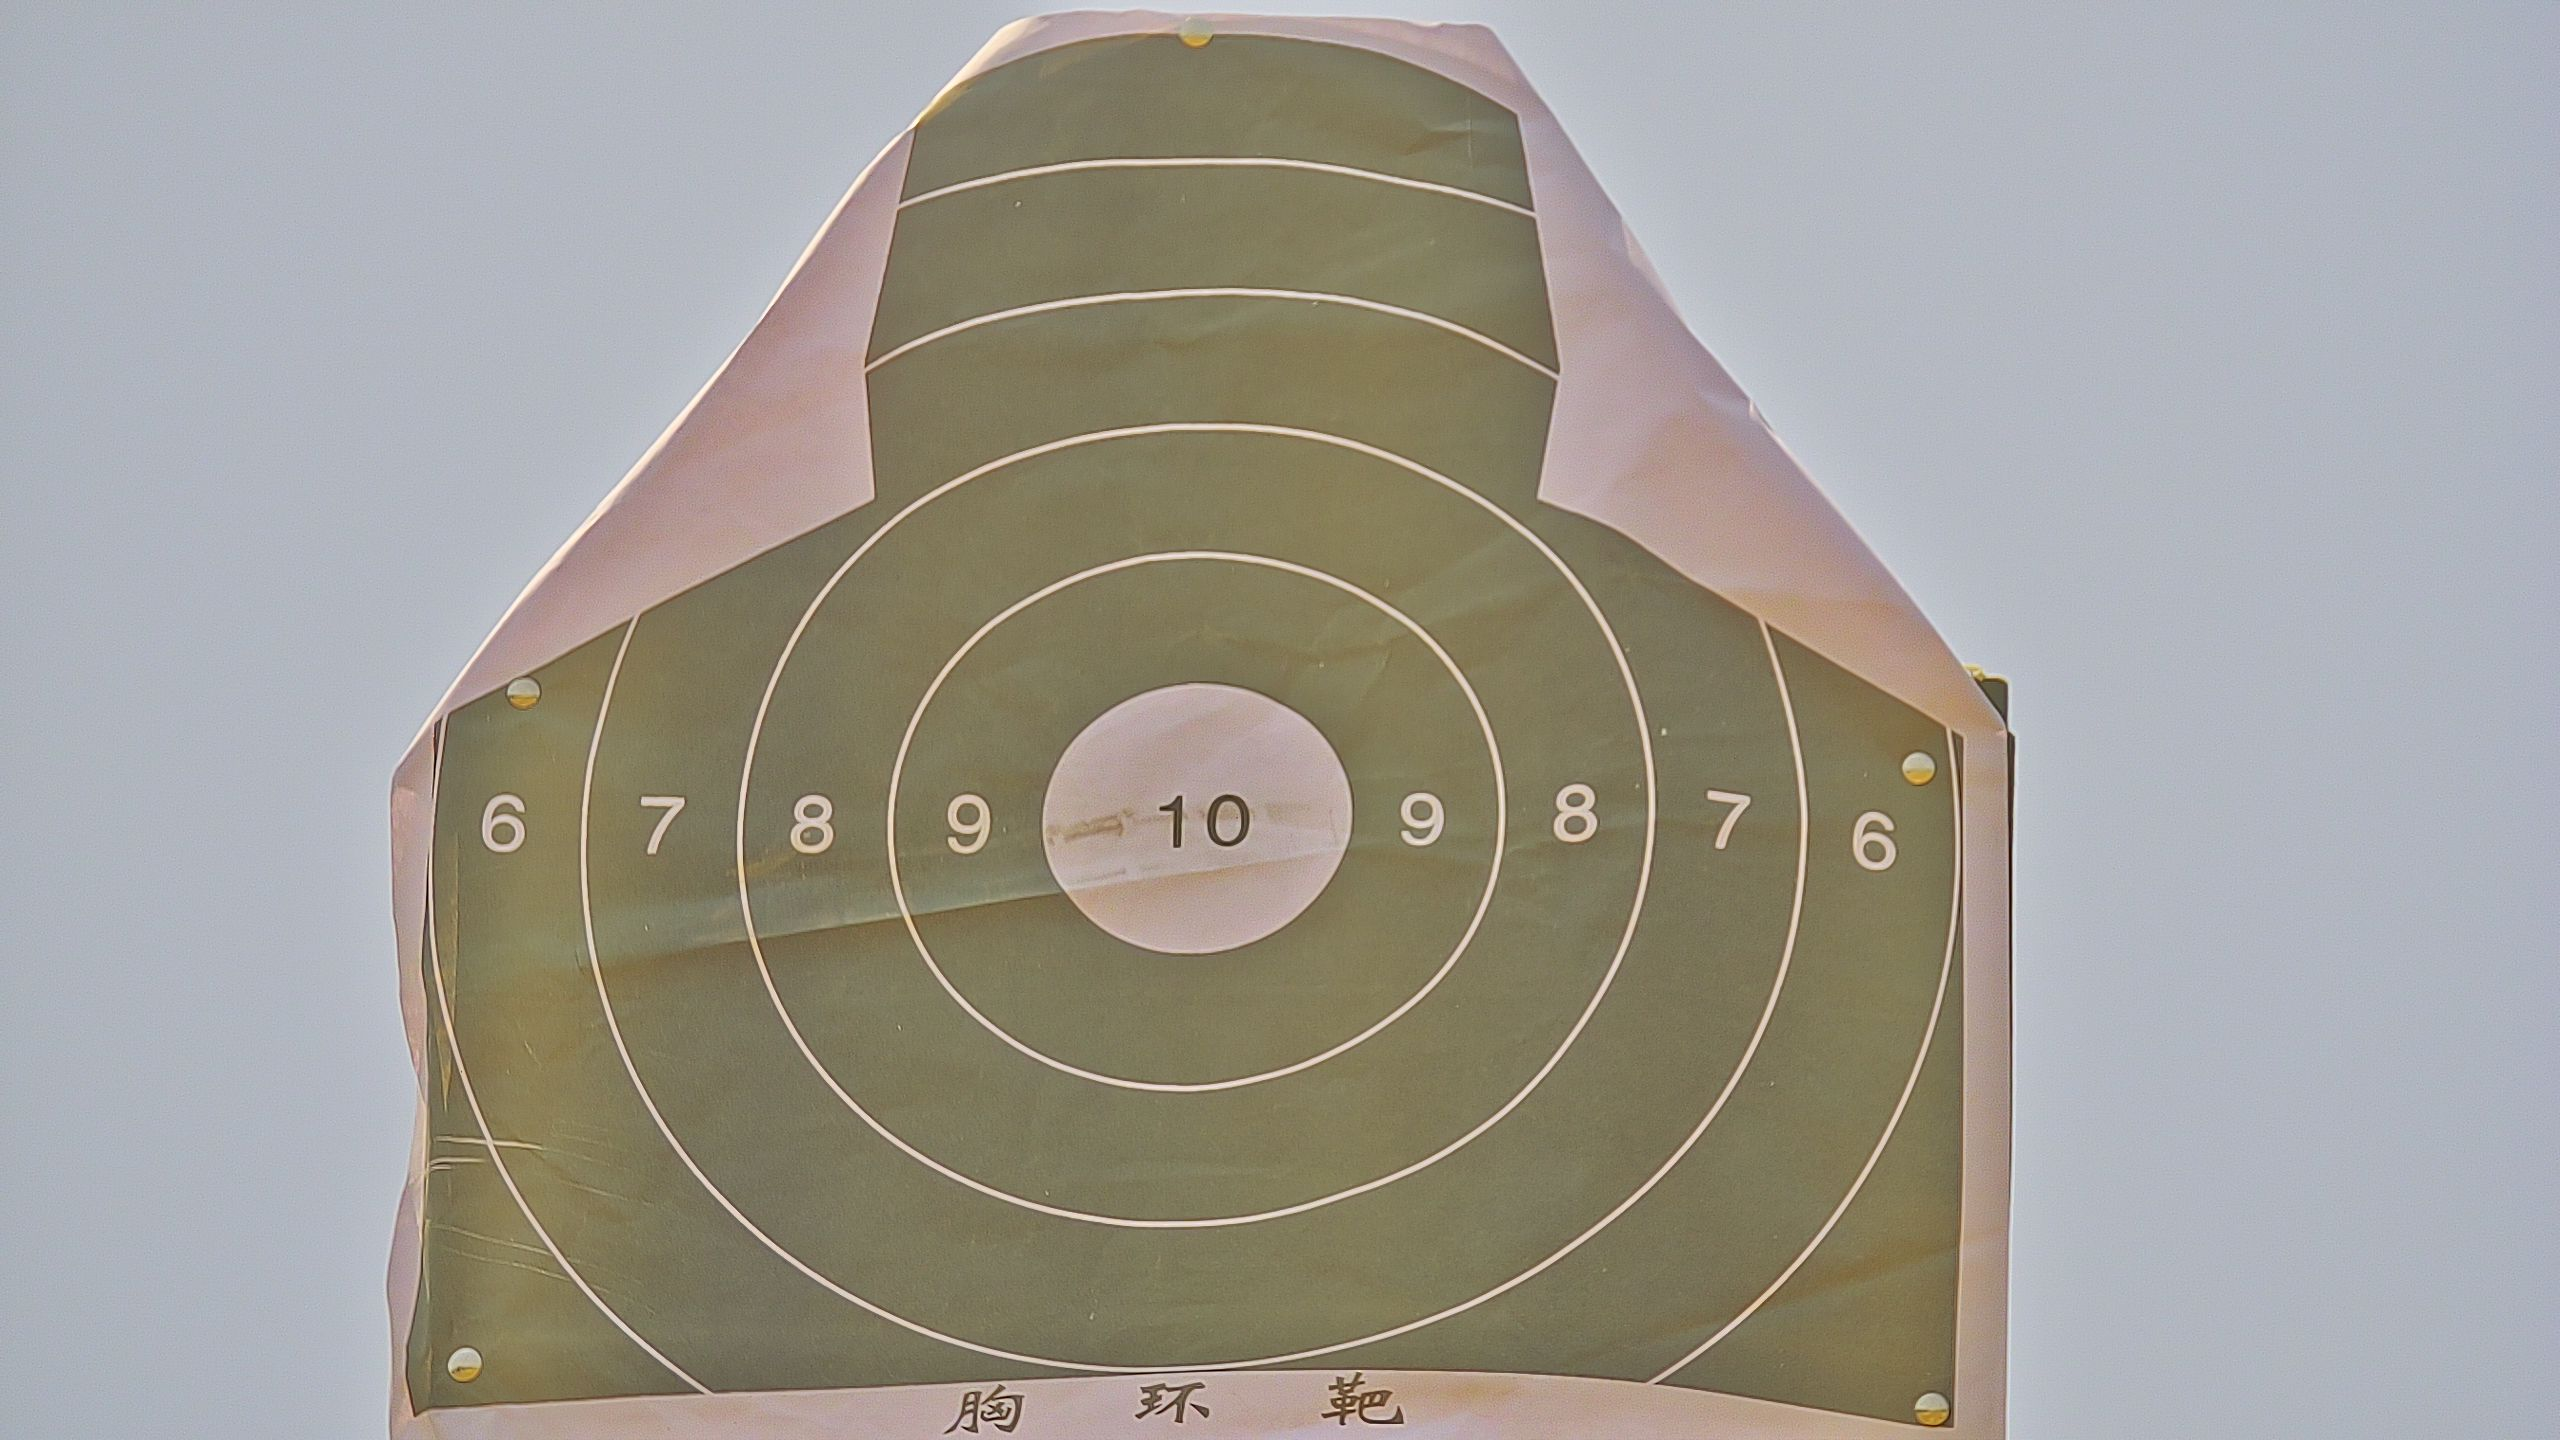kernel: (1190, 823, 1203, 826)
target: (396, 40, 1967, 1440)
ten: (1039, 680, 1356, 958)
